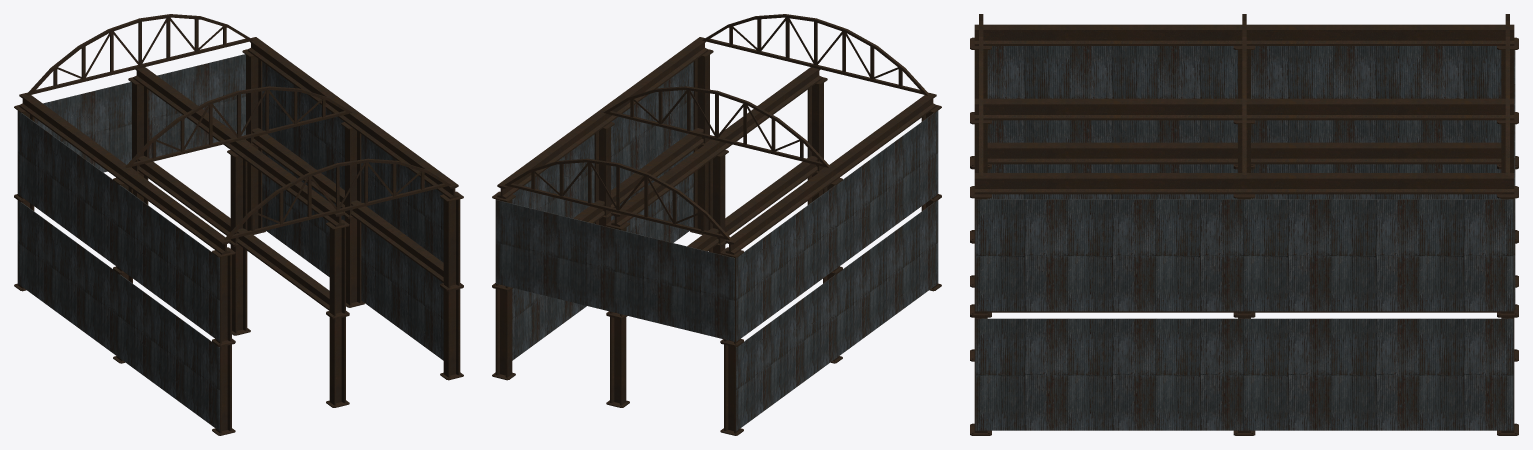
Rendered from warehouse_hl_1_end_open.obj.
3 renders of one model, left to right at view 1: azimuth 30°, elevation 25°; view 2: azimuth 150°, elevation 25°; view 3: azimuth 270°, elevation 25°, orthographic. The views are drawn at different scales.
Visible parts, largest first — view 1: warehouse_hl_1_end_open; view 2: warehouse_hl_1_end_open; view 3: warehouse_hl_1_end_open.
Boxes of the visible parts, x1,y1,x2,y2 form: warehouse_hl_1_end_open: (14,14,463,435); warehouse_hl_1_end_open: (492,14,941,435); warehouse_hl_1_end_open: (970,14,1518,435).
Size of the model in its own units: 8.6 by 8.02 by 12.5.
